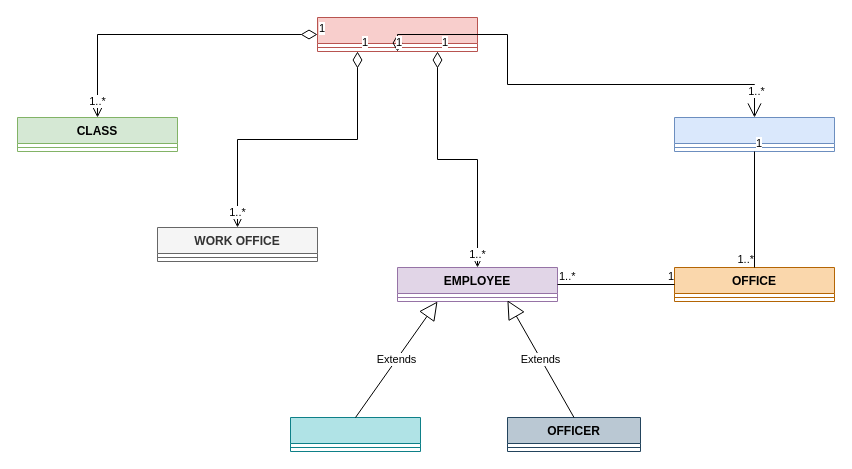
The diagram is 852 pixels wide and 469 high, and some of its shapes have lost their labels. Here are the shapes that lost their labels. From the top down, the centre of each, then its label:
At pixel 397 34: "UNIVERSITY".
At pixel 754 134: "DEPARTMENT".
At pixel 355 434: "PROFESSOR".
